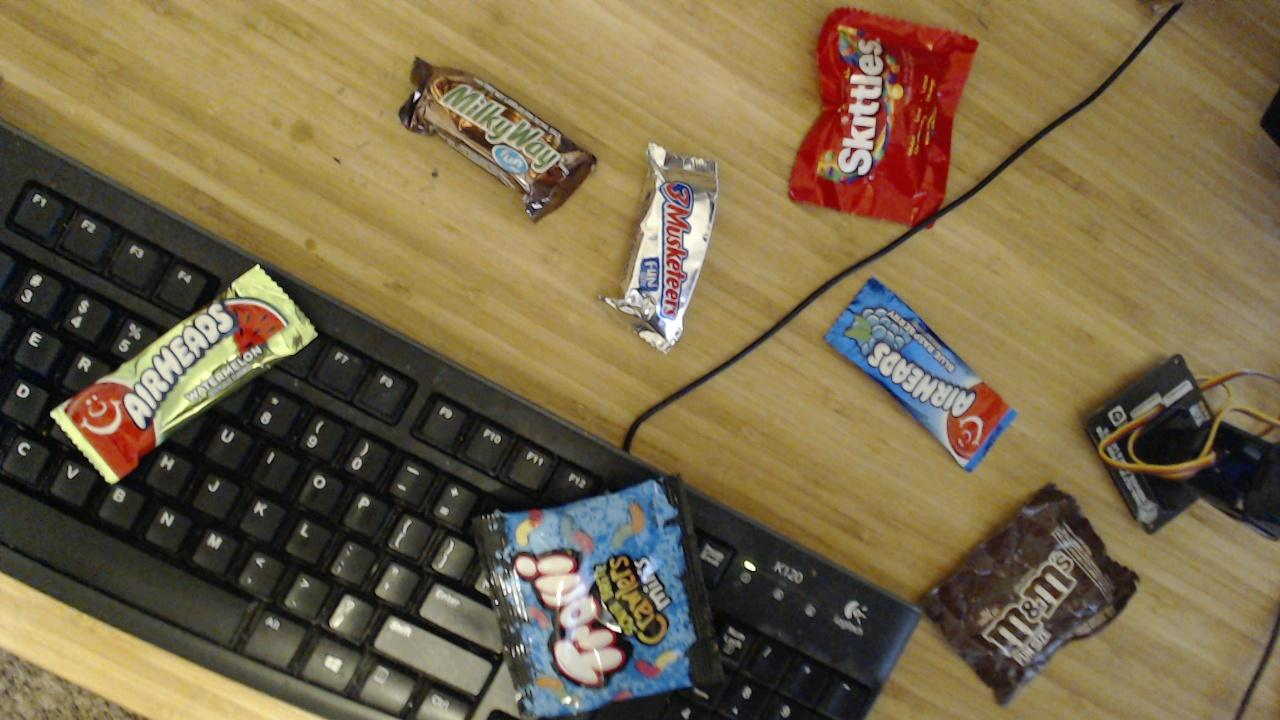MM_regular: (919, 485, 1140, 707)
Trolli: (476, 479, 712, 718)
airheads: (49, 263, 321, 485), (824, 279, 1016, 473)
milky_way: (400, 57, 601, 223)
musketeers: (597, 146, 720, 354)
skittles: (786, 5, 977, 228)
